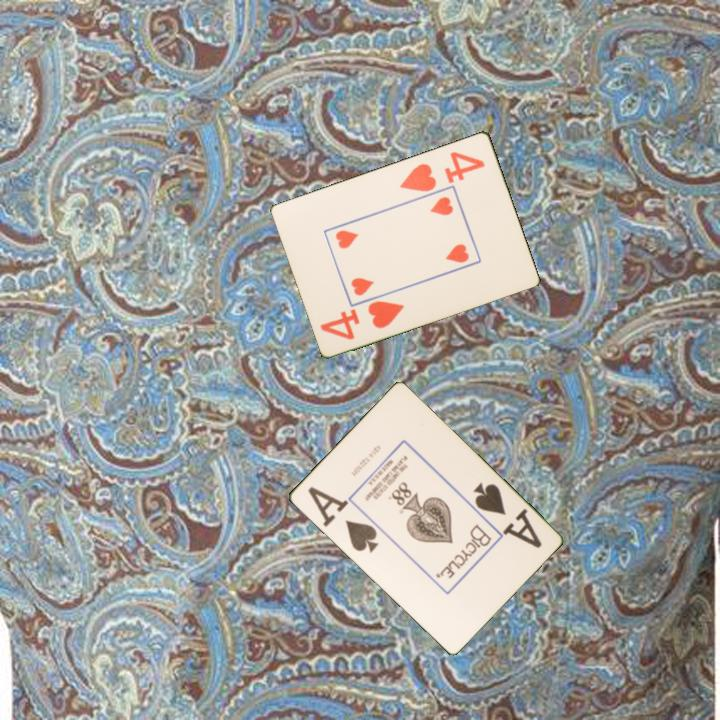4h: (396, 147, 488, 194), (317, 297, 407, 343)
As: (469, 479, 544, 551), (311, 490, 381, 556)
